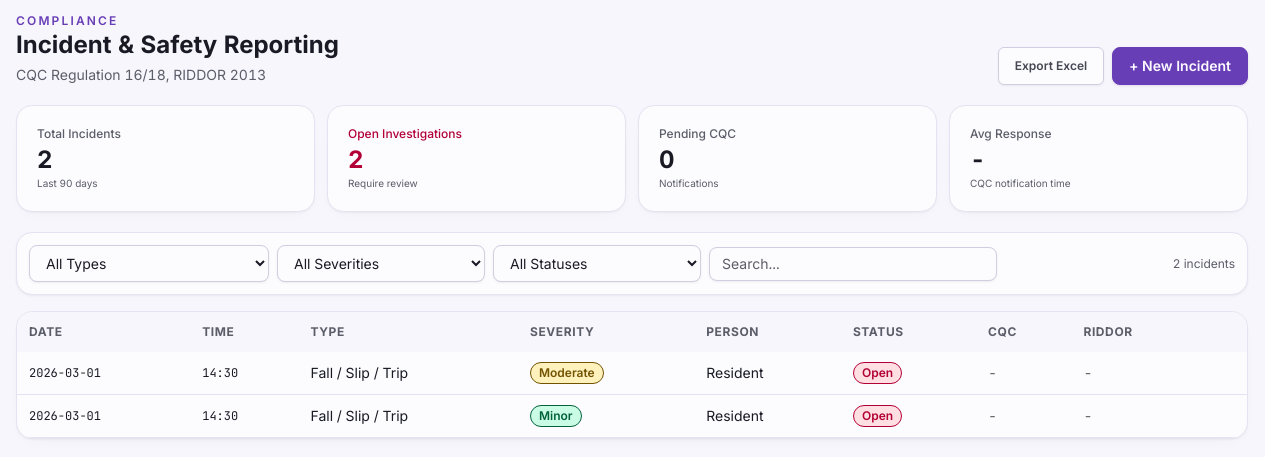
Test: IncidentTracker › severity filter shows only matching incidents
Expected: the text "2026-03-01" is shown 2 times, [17, 352, 190, 394]; [17, 394, 190, 438]
Note: Select 'moderate' by value
Select "Moderate" in the dropdown showing "All Severities" at (381, 264), box [277, 245, 485, 282]
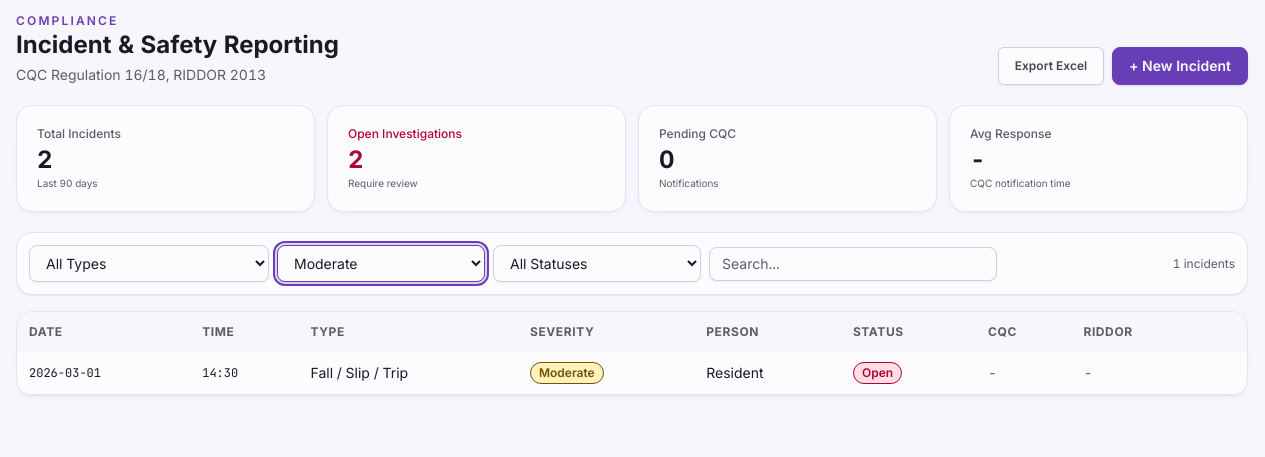
Result: the text "2026-03-01" is shown once at [17, 352, 190, 394]
